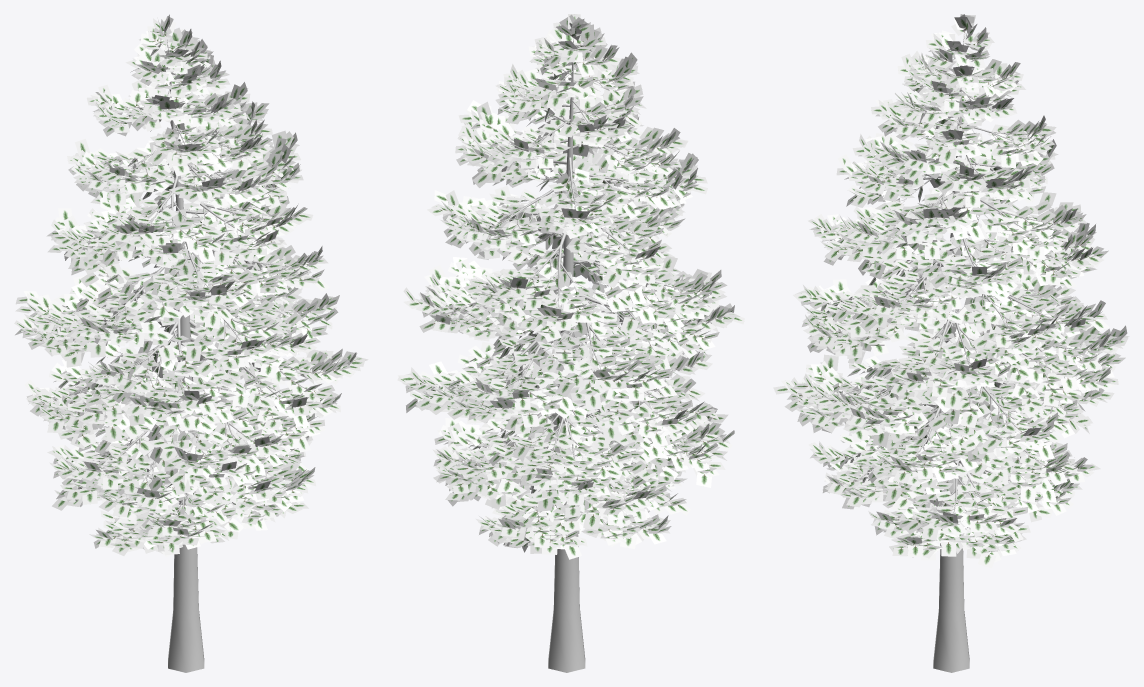
Rendered from Tree1.fbx.
3 views of the same model, side by side, from view 1: azimuth 30°, elevation 25°; view 2: azimuth 150°, elevation 25°; view 3: azimuth 270°, elevation 25° (orthographic). The views are drawn at different scales.
Visible parts, largest first — view 1: leaves, tree; view 2: leaves, tree; view 3: leaves, tree.
Part boxes in pixels (left/top/right/bottom): leaves: left=14, top=14, right=368, bottom=557; tree: left=32, top=39, right=333, bottom=672; leaves: left=397, top=14, right=744, bottom=559; tree: left=417, top=37, right=715, bottom=672; leaves: left=773, top=14, right=1129, bottom=568; tree: left=798, top=32, right=1105, bottom=672.
Size of the model in its own units: 2203 by 4732 by 2379.
